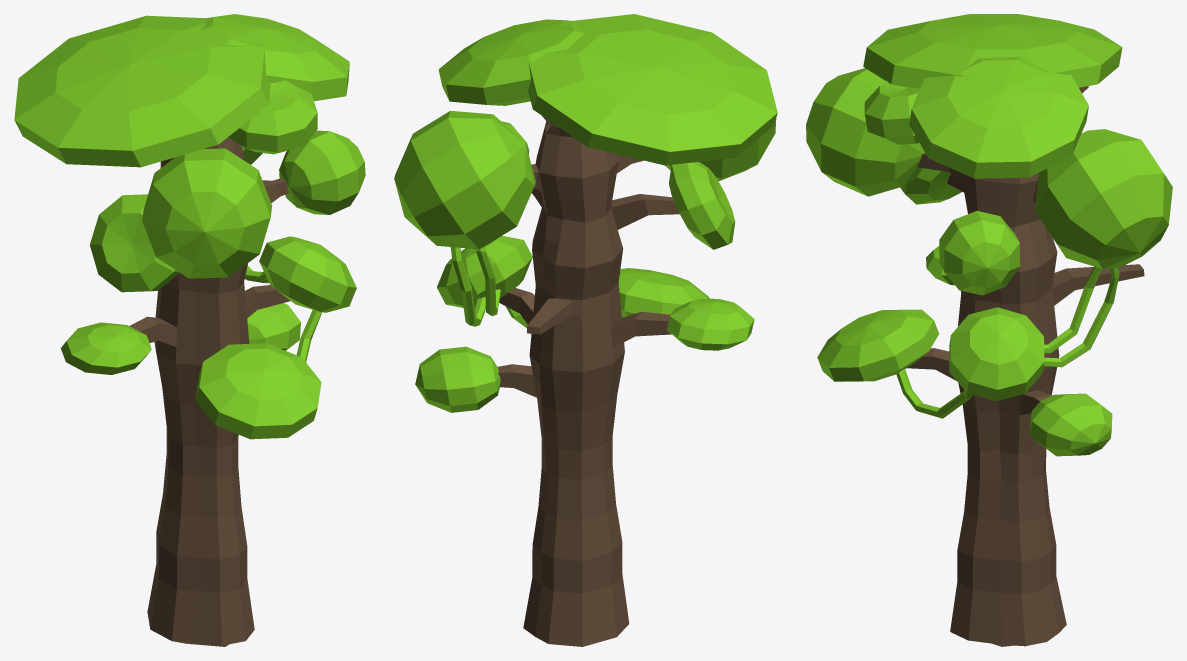
File: Tree04.FBX
The picture shows the model from 3 angles, left to right: view 1: azimuth 30°, elevation 25°; view 2: azimuth 150°, elevation 25°; view 3: azimuth 270°, elevation 25°; orthographic projection. The views are drawn at different scales.
Parts seen in each view (by area): view 1: Box004; view 2: Box004; view 3: Box004.
Boxes of the visible parts, left/top/right/bottom form: Box004: left=14, top=14, right=365, bottom=646; Box004: left=394, top=14, right=777, bottom=646; Box004: left=806, top=14, right=1172, bottom=646.
Size of the model in its own units: 53.58 by 95.75 by 54.75.
